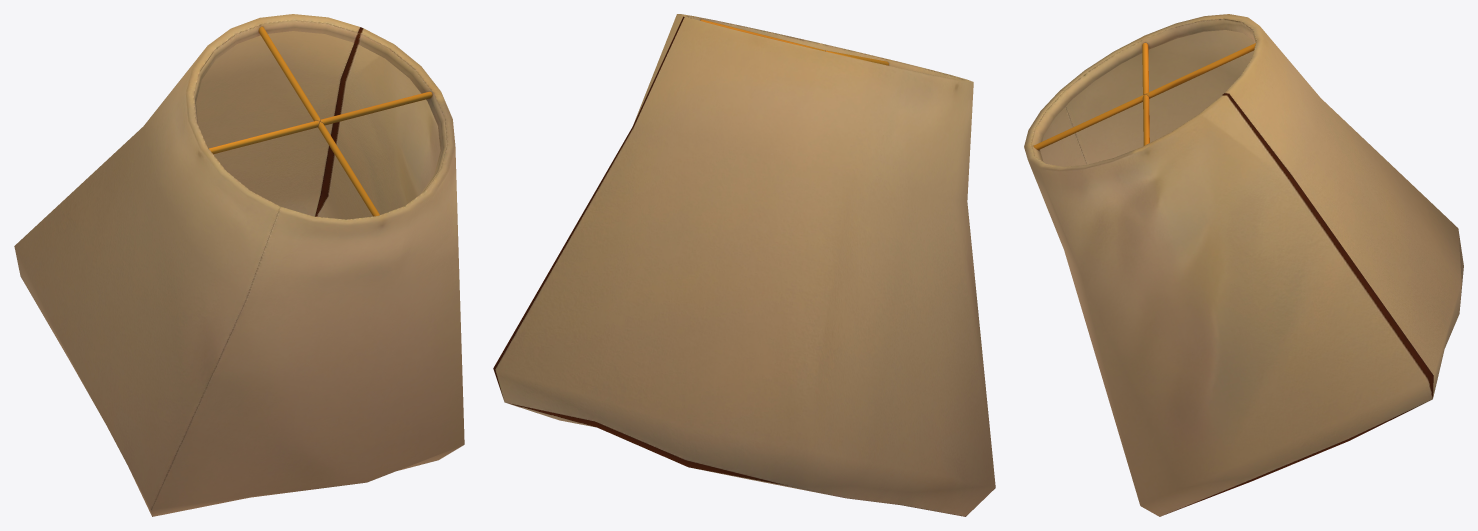
File: Sky Lantern.glb
The picture shows the model from 3 angles, left to right: view 1: azimuth 30°, elevation 25°; view 2: azimuth 150°, elevation 25°; view 3: azimuth 270°, elevation 25°; orthographic projection. The views are drawn at different scales.
Visible parts, largest first — view 1: Latern 2.001, Cylinder.012; view 2: Latern 2.001; view 3: Latern 2.001, Cylinder.012.
Part boxes in pixels (x1=…): Latern 2.001: x1=14, y1=14, x2=464, y2=516; Cylinder.012: x1=209, y1=26, x2=432, y2=216; Latern 2.001: x1=493, y1=14, x2=995, y2=516; Latern 2.001: x1=1024, y1=14, x2=1463, y2=516; Cylinder.012: x1=1033, y1=43, x2=1255, y2=150.
Size of the model in its own units: 0.4632 by 0.611 by 0.5753.
Materials: 1 (1 with a texture image).
